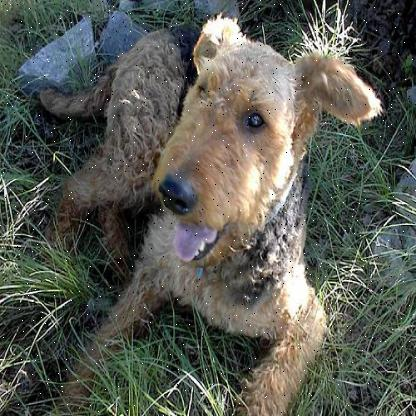dog: (97, 17, 368, 377)
